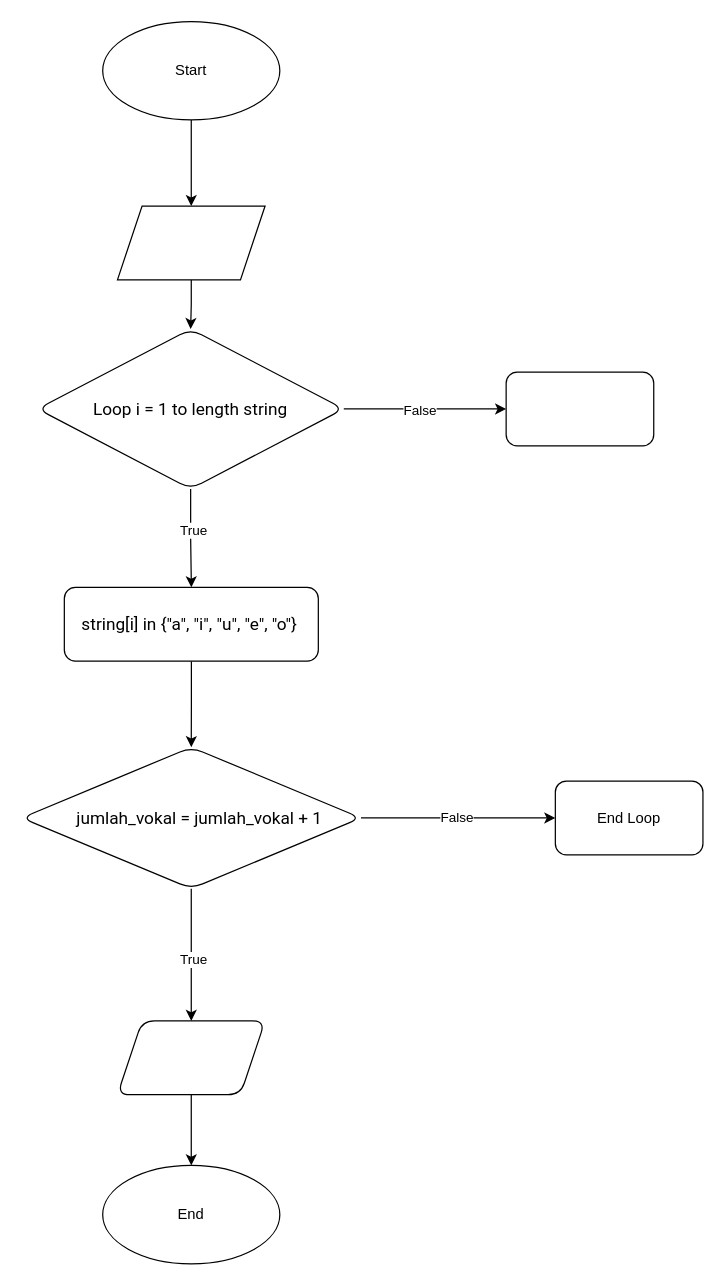
Image size: 724x1285. Some labels were removed from this diagram. Each missing label, with the centre of its shape:
Do Nothing: (x=579, y=408)
Input String: (x=190, y=242)
Jumlah_Vokal: (x=190, y=1057)
